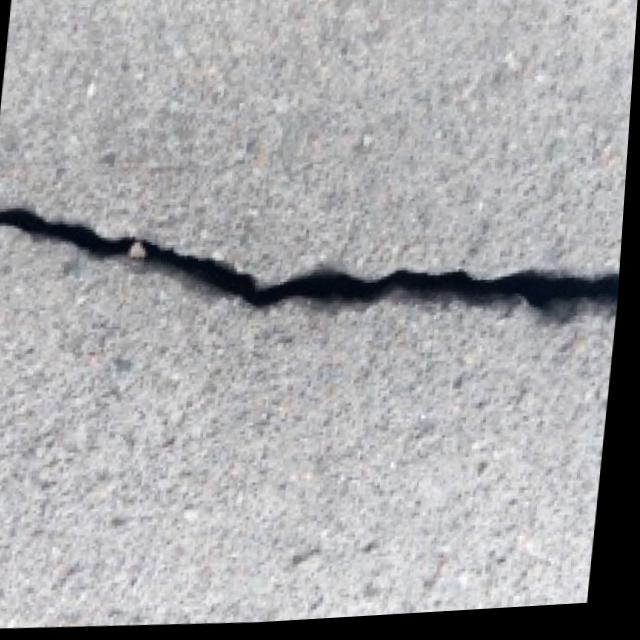Crack: (0, 153, 630, 409)
